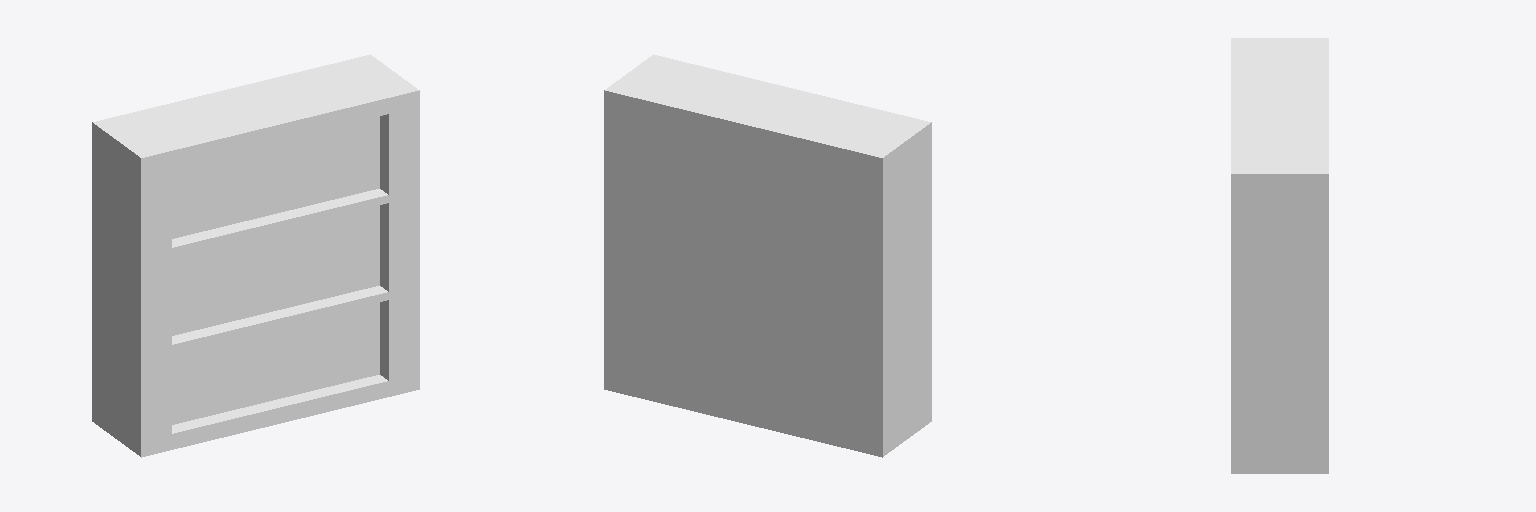
Rendered from ModelsFedaHome-2.obj.
The picture shows the model from 3 angles: view 1: azimuth 30°, elevation 25°; view 2: azimuth 150°, elevation 25°; view 3: azimuth 270°, elevation 25°; orthographic projection.
Parts seen in each view (by area): view 1: object 1; view 2: object 1; view 3: object 1.
Boxes of the visible parts, <box> form: object 1: <box>92,54,419,457</box>; object 1: <box>604,54,931,457</box>; object 1: <box>1231,38,1328,473</box>.
Bounding box in the file's own units: 3.6 × 3.7 × 1.1.